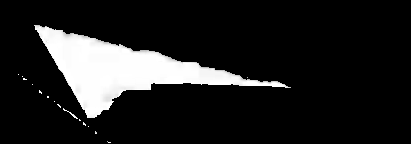Plane: (24, 18, 296, 128)
